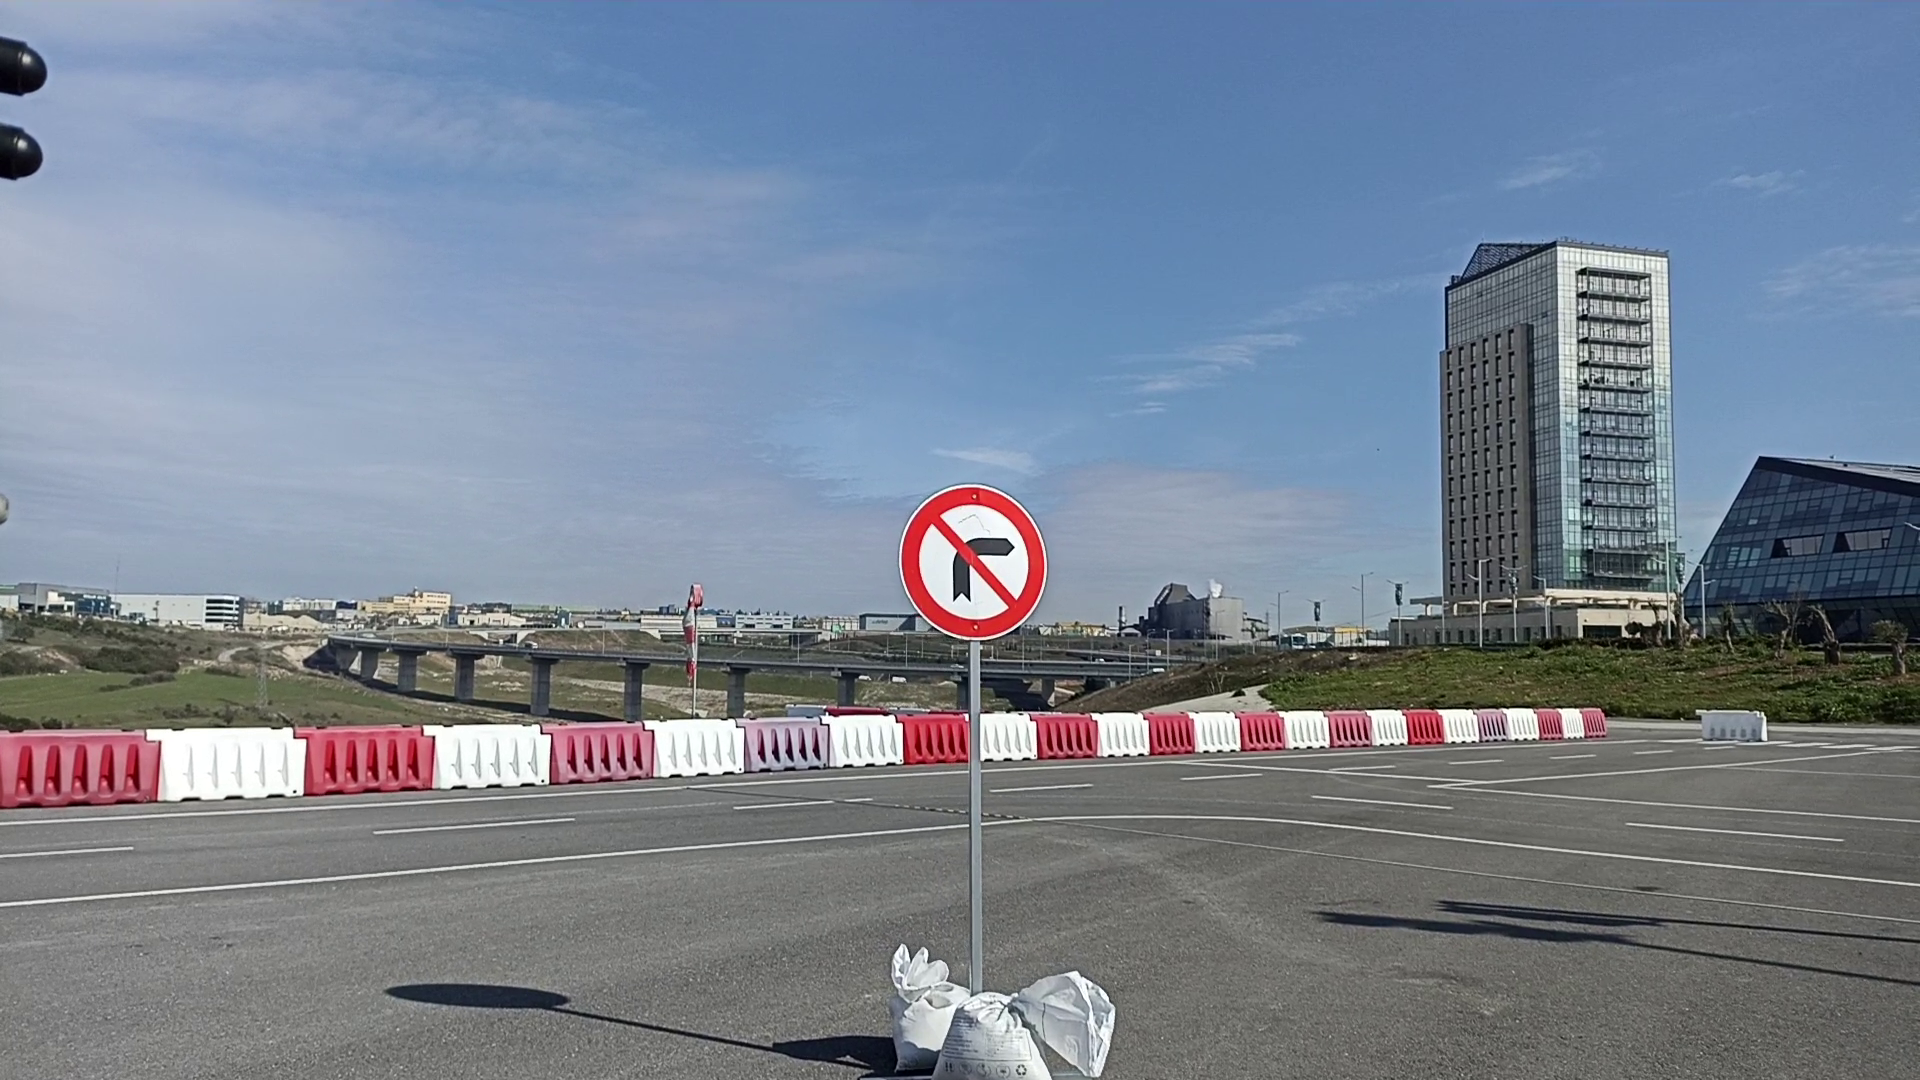noleftturn: (895, 483, 1051, 642)
